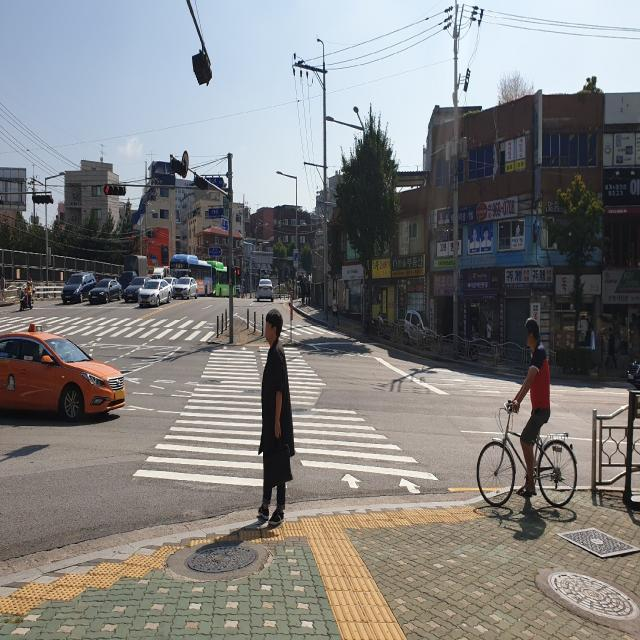빨간불: (237, 269, 240, 283)
횡단보도: (131, 344, 441, 496), (53, 316, 209, 340), (297, 324, 318, 336)
